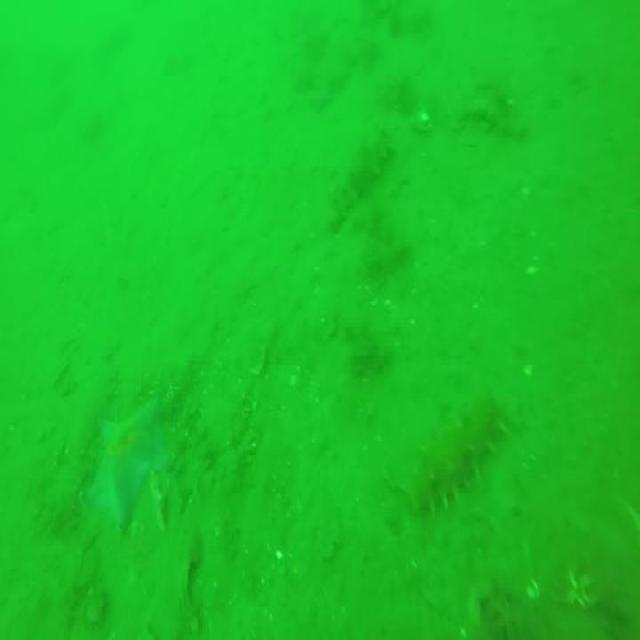holothurian: (392, 389, 502, 510), (301, 8, 383, 103), (325, 123, 393, 226)
starfish: (80, 395, 176, 533)
